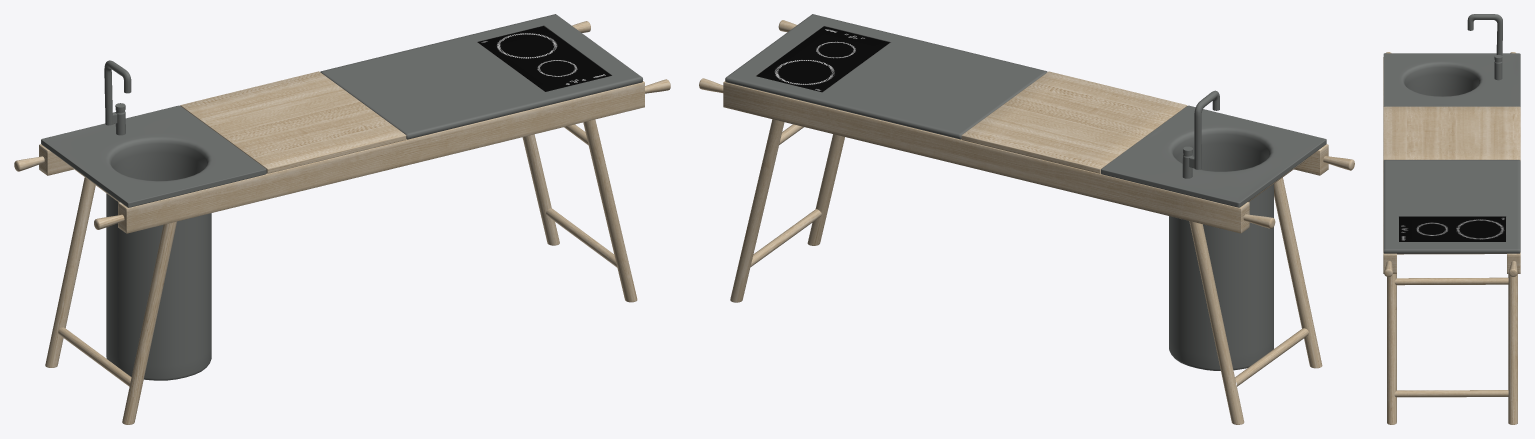
File: Kitchen.glb
The picture shows the model from 3 angles, left to right: view 1: azimuth 30°, elevation 25°; view 2: azimuth 150°, elevation 25°; view 3: azimuth 270°, elevation 25°; orthographic projection. The views are drawn at different scales.
Parts seen in each view (by area): view 1: Stip-Critter-Kitchen-Unit-matel_02, Stip-Critter-Kitchen-Unit-matel_01, Stip-Critter-Kitchen-Unit-kat_01, Stip-Critter-Kitchen-Unit-kat_03, Stip-Critter-Kitchen-Unit-display_01, Stip-Critter-Kitchen-Unit-kat_05, Stip-Critter-Kitchen-Unit-kat_07, Stip-Critter-Kitchen-Unit-kat_04, Stip-Critter-Kitchen-Unit-kat_06, Stip-Critter-Kitchen-Unit-matel_04, Stip-Critter-Kitchen-Unit-kat_10, Stip-Critter-Kitchen-Unit-kat_12; view 2: Stip-Critter-Kitchen-Unit-matel_02, Stip-Critter-Kitchen-Unit-matel_01, Stip-Critter-Kitchen-Unit-kat_02, Stip-Critter-Kitchen-Unit-kat_03, Stip-Critter-Kitchen-Unit-display_01, Stip-Critter-Kitchen-Unit-kat_07, Stip-Critter-Kitchen-Unit-kat_05, Stip-Critter-Kitchen-Unit-kat_06, Stip-Critter-Kitchen-Unit-kat_04, Stip-Critter-Kitchen-Unit-matel_04, Stip-Critter-Kitchen-Unit-kat_10, Stip-Critter-Kitchen-Unit-kat_12; view 3: Stip-Critter-Kitchen-Unit-matel_01, Stip-Critter-Kitchen-Unit-kat_03, Stip-Critter-Kitchen-Unit-matel_02, Stip-Critter-Kitchen-Unit-display_01, Stip-Critter-Kitchen-Unit-kat_06, Stip-Critter-Kitchen-Unit-kat_04, Stip-Critter-Kitchen-Unit-kat_12, Stip-Critter-Kitchen-Unit-kat_11, Stip-Critter-Kitchen-Unit-matel_04, Stip-Critter-Kitchen-Unit-kat_01, Stip-Critter-Kitchen-Unit-matel_03, Stip-Critter-Kitchen-Unit-kat_02 (+1 smaller).
Part boxes in pixels (x1,y1,x2,y2): Stip-Critter-Kitchen-Unit-matel_02: (41,105,266,380); Stip-Critter-Kitchen-Unit-matel_01: (320,14,642,139); Stip-Critter-Kitchen-Unit-kat_01: (118,81,644,233); Stip-Critter-Kitchen-Unit-kat_03: (180,71,406,173); Stip-Critter-Kitchen-Unit-display_01: (477,26,611,91); Stip-Critter-Kitchen-Unit-kat_05: (122,221,176,424); Stip-Critter-Kitchen-Unit-kat_07: (45,177,95,367); Stip-Critter-Kitchen-Unit-kat_04: (583,119,637,302); Stip-Critter-Kitchen-Unit-kat_06: (522,134,559,245); Stip-Critter-Kitchen-Unit-matel_04: (104,60,131,125); Stip-Critter-Kitchen-Unit-kat_10: (58,327,131,386); Stip-Critter-Kitchen-Unit-kat_12: (546,208,617,267); Stip-Critter-Kitchen-Unit-matel_02: (1101,105,1326,370); Stip-Critter-Kitchen-Unit-matel_01: (725,14,1047,139); Stip-Critter-Kitchen-Unit-kat_02: (723,81,1249,233); Stip-Critter-Kitchen-Unit-kat_03: (961,71,1187,173); Stip-Critter-Kitchen-Unit-display_01: (756,26,890,92); Stip-Critter-Kitchen-Unit-kat_07: (1189,221,1244,424); Stip-Critter-Kitchen-Unit-kat_05: (1274,177,1322,368); Stip-Critter-Kitchen-Unit-kat_06: (730,119,784,302); Stip-Critter-Kitchen-Unit-kat_04: (807,134,844,245); Stip-Critter-Kitchen-Unit-matel_04: (1189,90,1219,169); Stip-Critter-Kitchen-Unit-kat_10: (1235,328,1308,386); Stip-Critter-Kitchen-Unit-kat_12: (750,209,821,267); Stip-Critter-Kitchen-Unit-matel_01: (1383,160,1520,253); Stip-Critter-Kitchen-Unit-kat_03: (1383,106,1520,160); Stip-Critter-Kitchen-Unit-matel_02: (1383,53,1520,106); Stip-Critter-Kitchen-Unit-display_01: (1399,216,1505,241); Stip-Critter-Kitchen-Unit-kat_06: (1508,274,1517,424); Stip-Critter-Kitchen-Unit-kat_04: (1387,274,1396,424); Stip-Critter-Kitchen-Unit-kat_12: (1394,390,1508,397); Stip-Critter-Kitchen-Unit-kat_11: (1394,277,1508,285); Stip-Critter-Kitchen-Unit-matel_04: (1467,14,1502,61); Stip-Critter-Kitchen-Unit-kat_01: (1383,57,1396,273); Stip-Critter-Kitchen-Unit-matel_03: (1494,54,1502,80); Stip-Critter-Kitchen-Unit-kat_02: (1507,252,1520,273).
Size of the model in its own units: 2.45 by 1.23 by 0.6508.
Materials: 1 (1 with a texture image).
